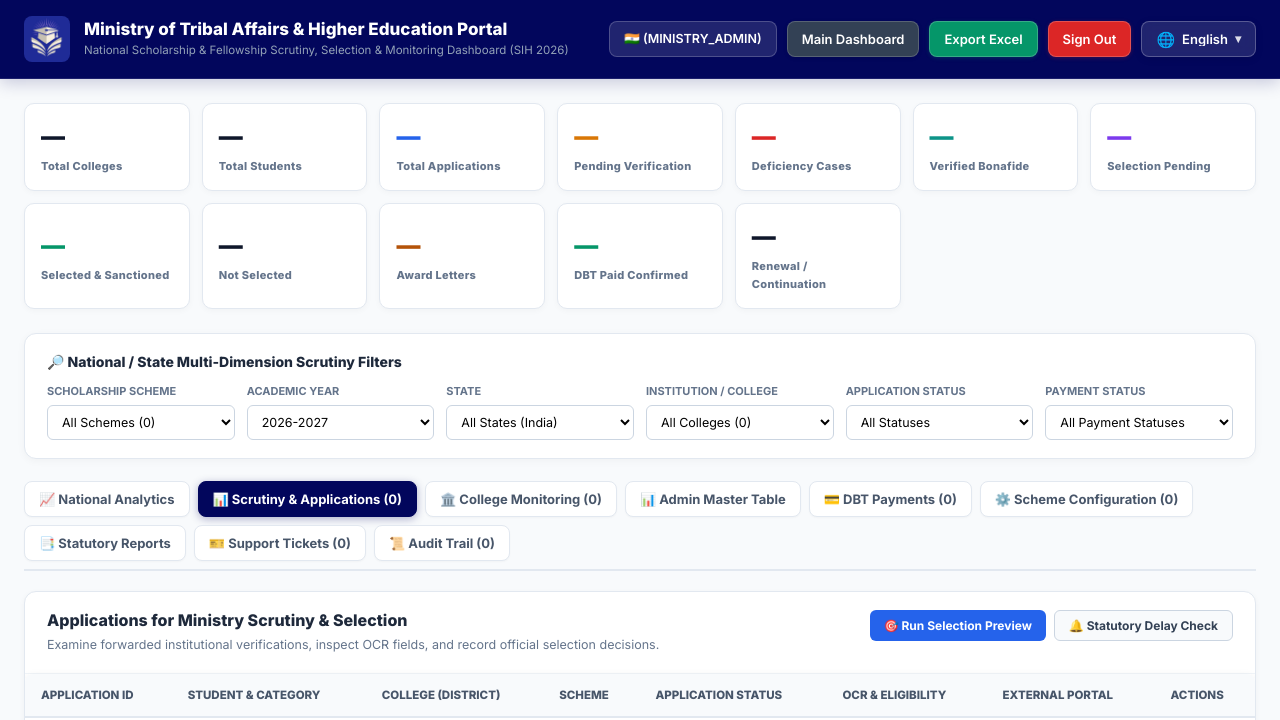
Scenario: MinistryDashboard Analytics & Formatting Verification (SIH26239) › Scenario 4: Empty dataset renders safely without crashing
Click the button "📈 National Analytics": click(107, 499) [24, 481, 190, 517]
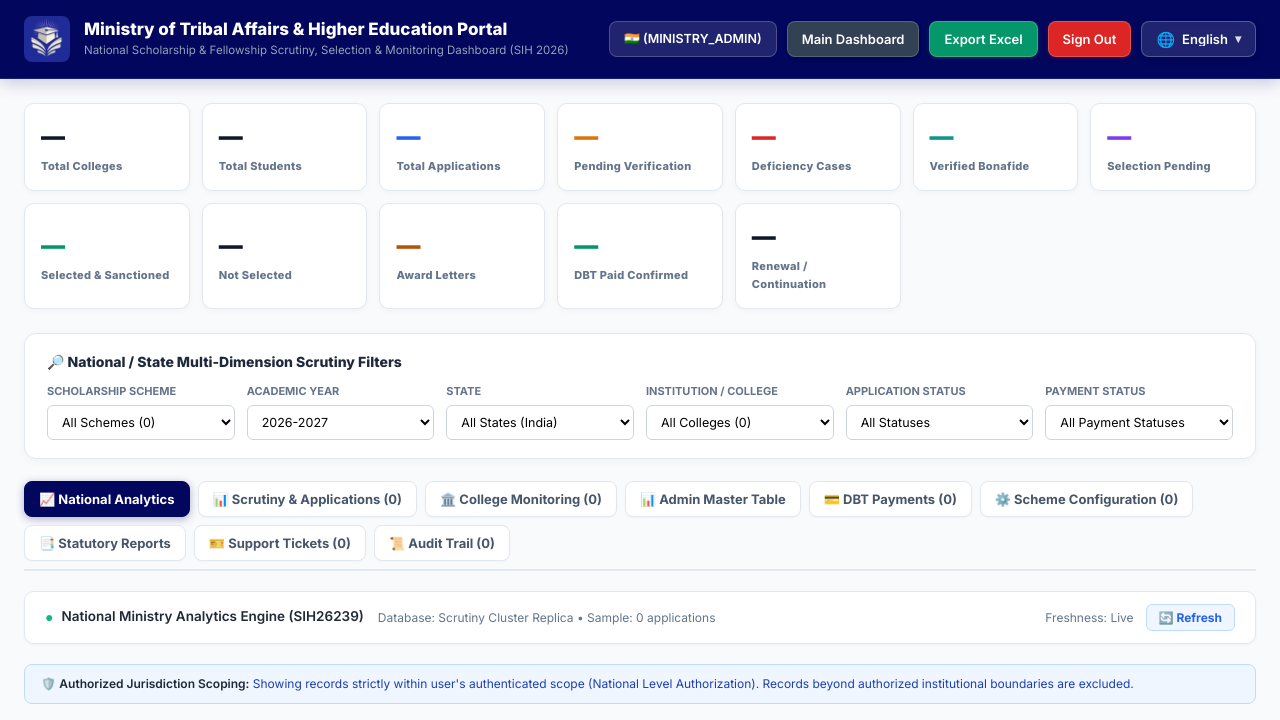
Now the text "National Ministry Analytics Engine (SIH26239)" is shown, box [62, 606, 364, 628]
